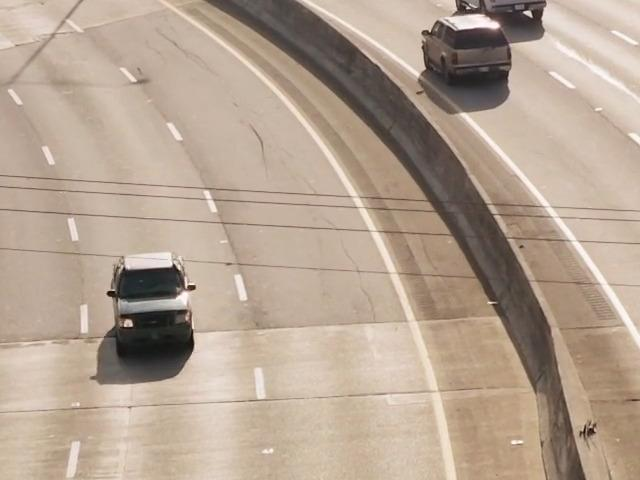car: (103, 237, 207, 383), (407, 17, 517, 107)
pickup-truck: (443, 0, 560, 36)
